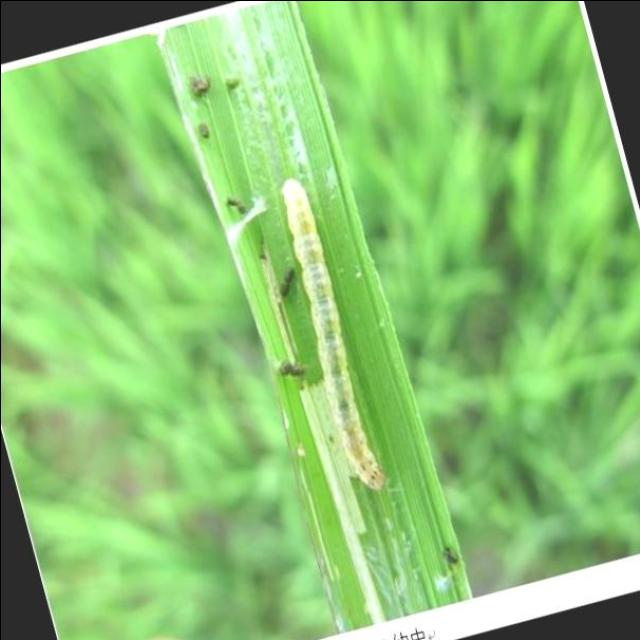leaf folder: (281, 178, 383, 488)
